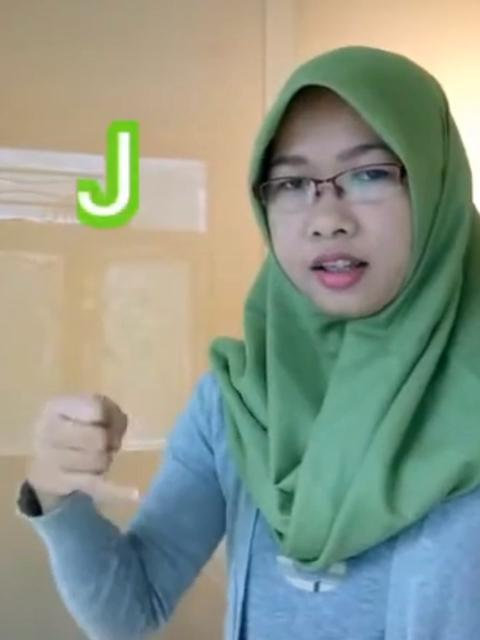J: (29, 392, 150, 512)
